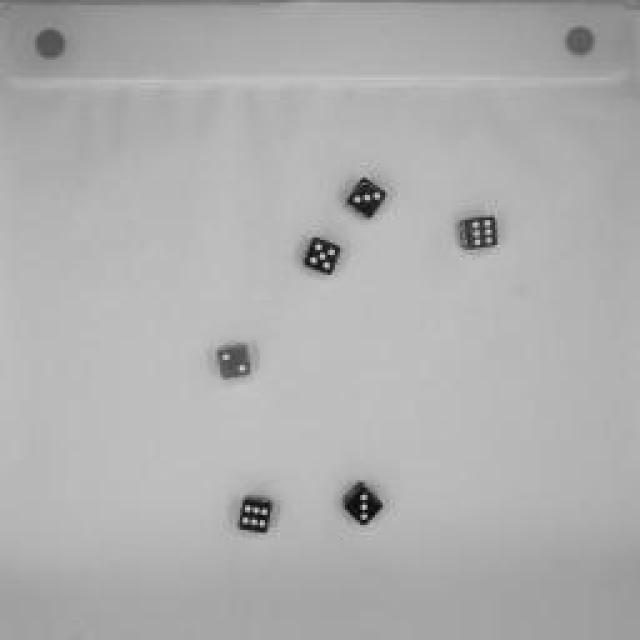dice_2: (211, 336, 264, 386)
dice_3: (336, 476, 389, 534), (339, 173, 396, 225)
dice_5: (290, 229, 350, 281)
dice_6: (449, 208, 506, 258), (232, 492, 282, 542)
